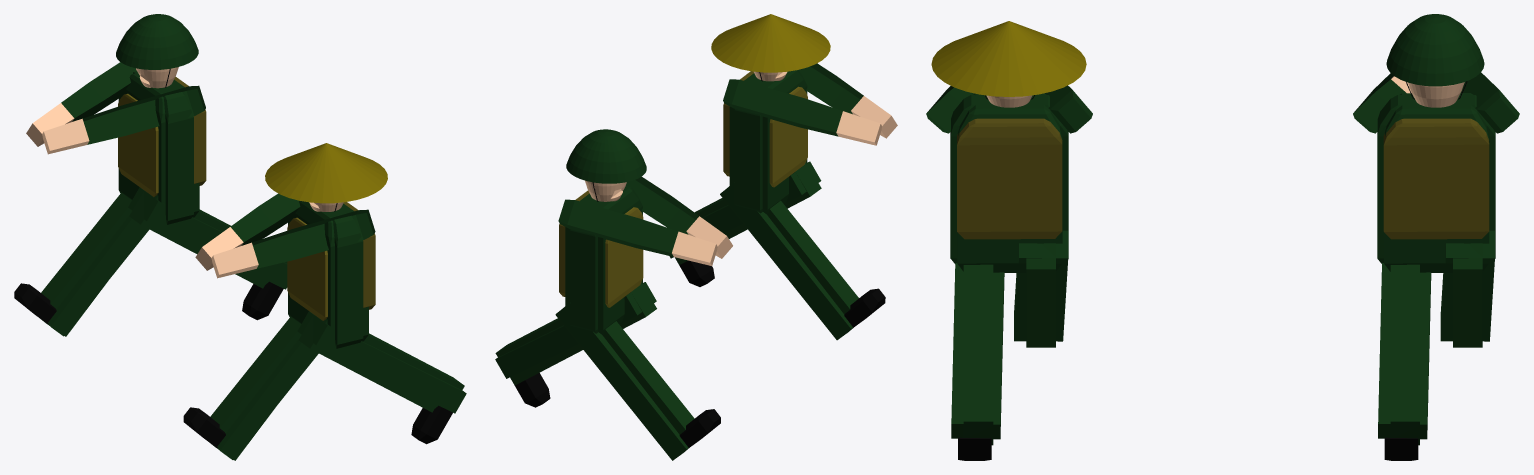
The model's file is tela_animation_beg.fbx.
3 renders of one model, left to right at view 1: azimuth 30°, elevation 25°; view 2: azimuth 150°, elevation 25°; view 3: azimuth 270°, elevation 25°, orthographic. The views are drawn at different scales.
Visible parts, largest first — view 1: Sphere.002, Sphere.005; view 2: Sphere.005, Sphere.002; view 3: Sphere.002, Sphere.005.
Boxes of the visible parts, x1,y1,x2,y2 form: Sphere.002: (183,143,466,460); Sphere.005: (14,14,287,336); Sphere.005: (495,129,732,460); Sphere.002: (667,14,897,340); Sphere.002: (926,21,1092,460); Sphere.005: (1353,14,1519,460).
Size of the model in its own units: 539 by 649 by 889.
